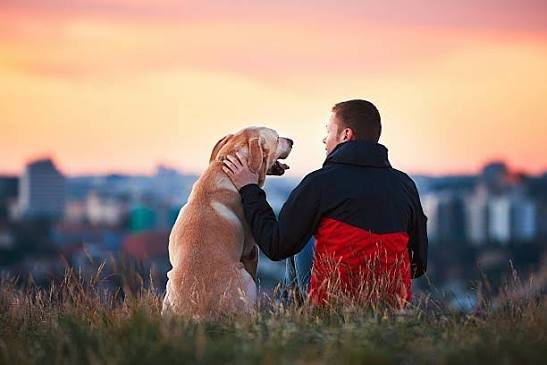dog: (164, 126, 295, 324)
person: (235, 99, 429, 314)
